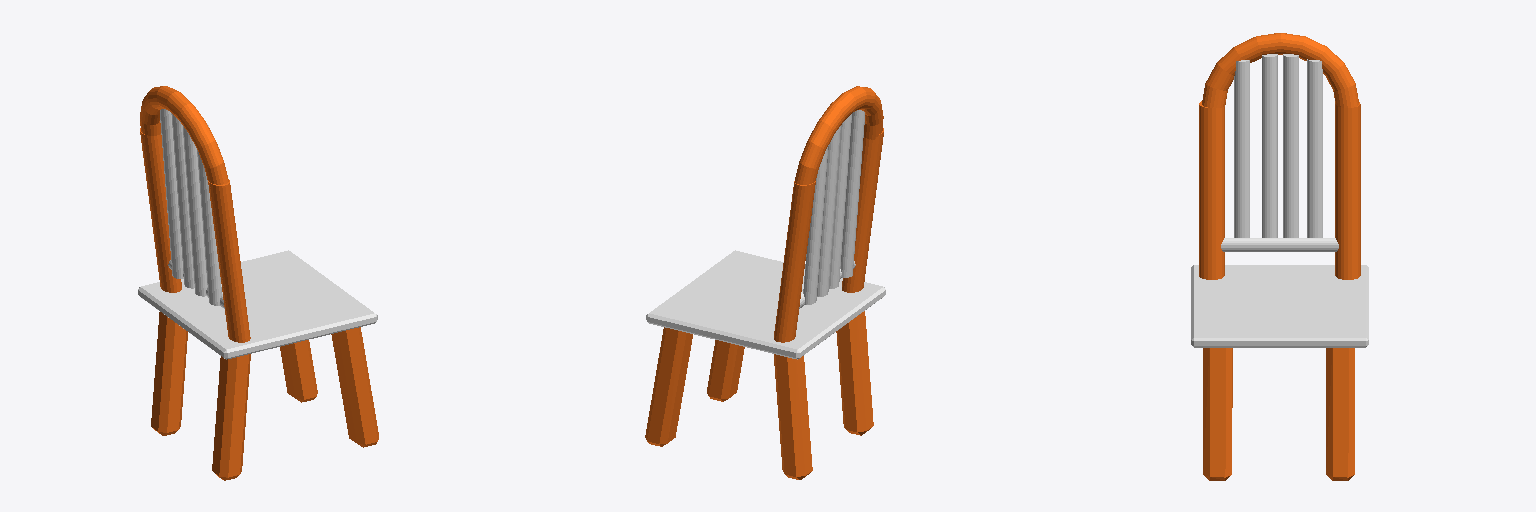
The picture shows the model from 3 angles: view 1: azimuth 30°, elevation 25°; view 2: azimuth 150°, elevation 25°; view 3: azimuth 270°, elevation 25°; orthographic projection.
Parts seen in each view (by area): view 1: Silla:pCube18; view 2: Silla:pCube18; view 3: Silla:pCube18.
Boxes of the visible parts, box(x1,y1,x2,y2) form: Silla:pCube18: box(138, 86, 378, 480); Silla:pCube18: box(645, 86, 885, 479); Silla:pCube18: box(1191, 33, 1368, 480).
Size of the model in its own units: 1.28 by 2.53 by 1.11.
2 materials, 2 textured.